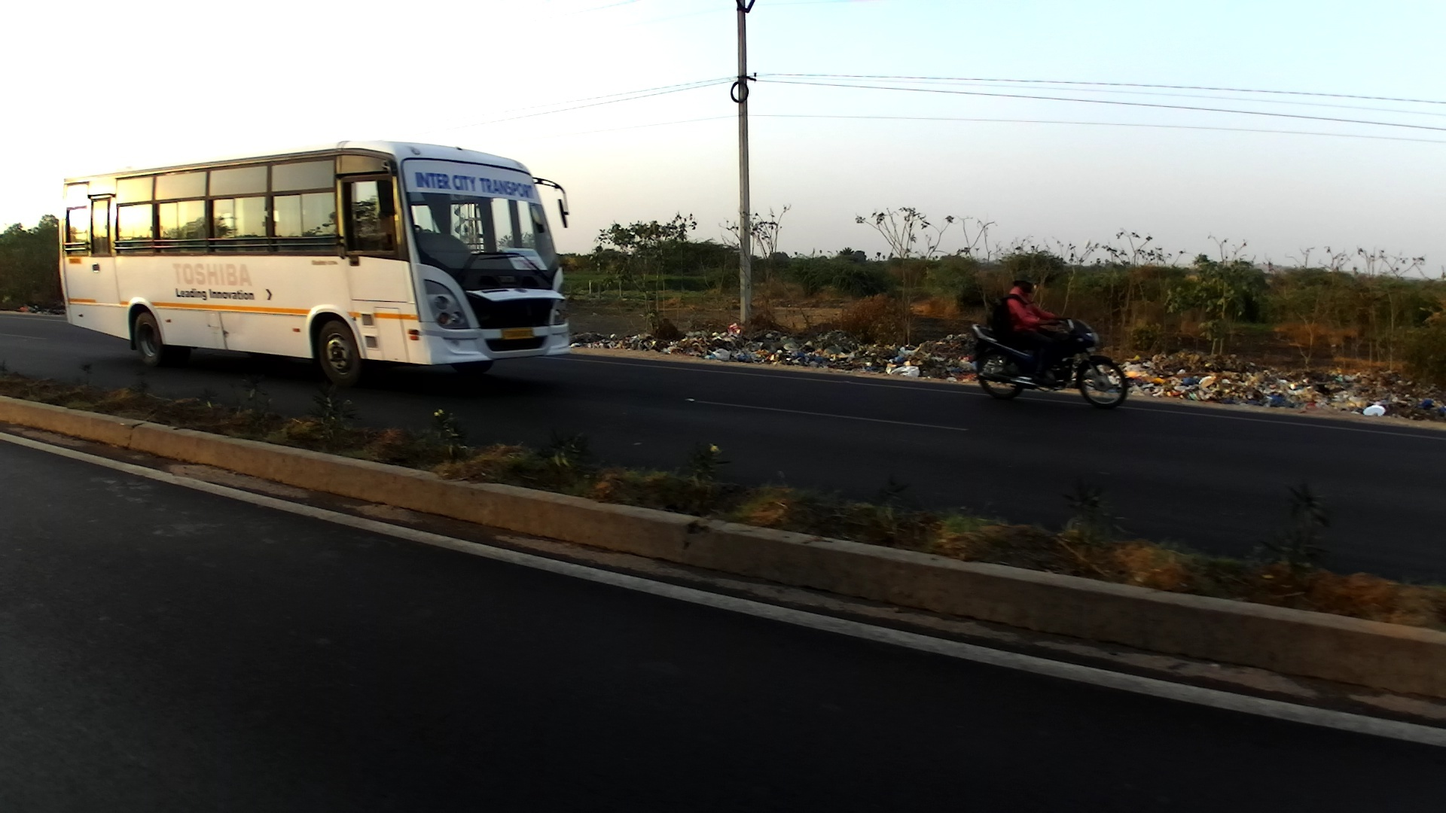bus: (56, 143, 574, 385)
motorcycle: (972, 310, 1127, 409)
rider: (997, 268, 1072, 388)
